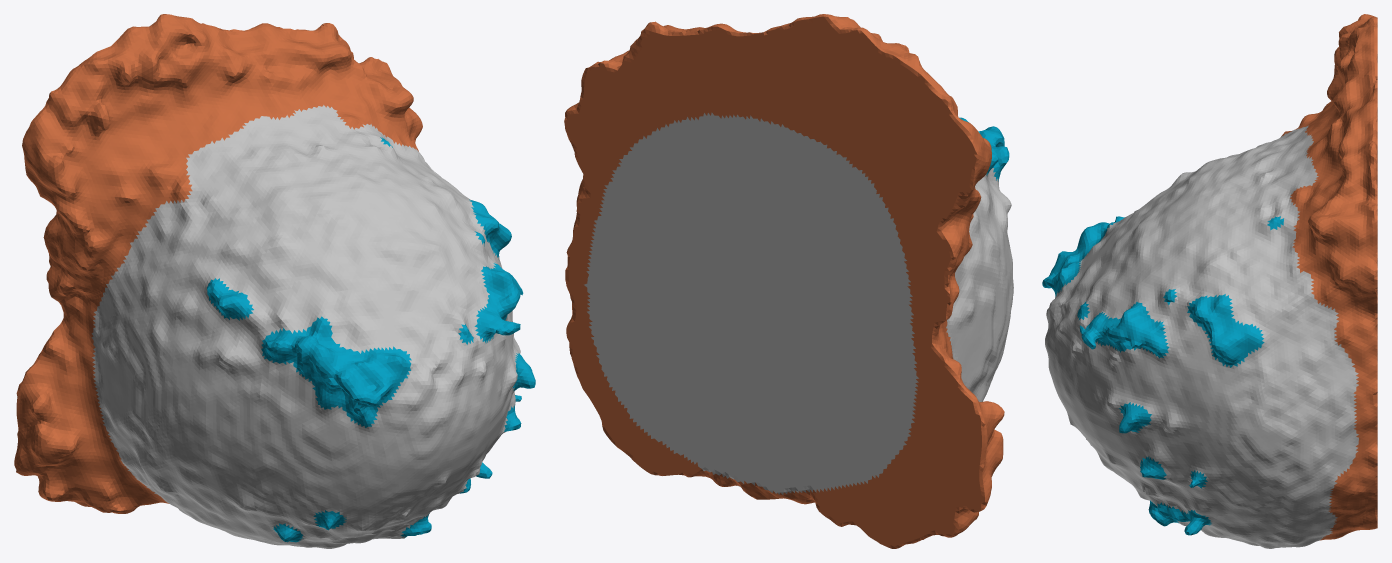
3 renders of one model, left to right at view 1: azimuth 30°, elevation 25°; view 2: azimuth 150°, elevation 25°; view 3: azimuth 270°, elevation 25°, orthographic. The views are drawn at different scales.
Bounding box in the file's own units: 101 × 114 × 75.89.
